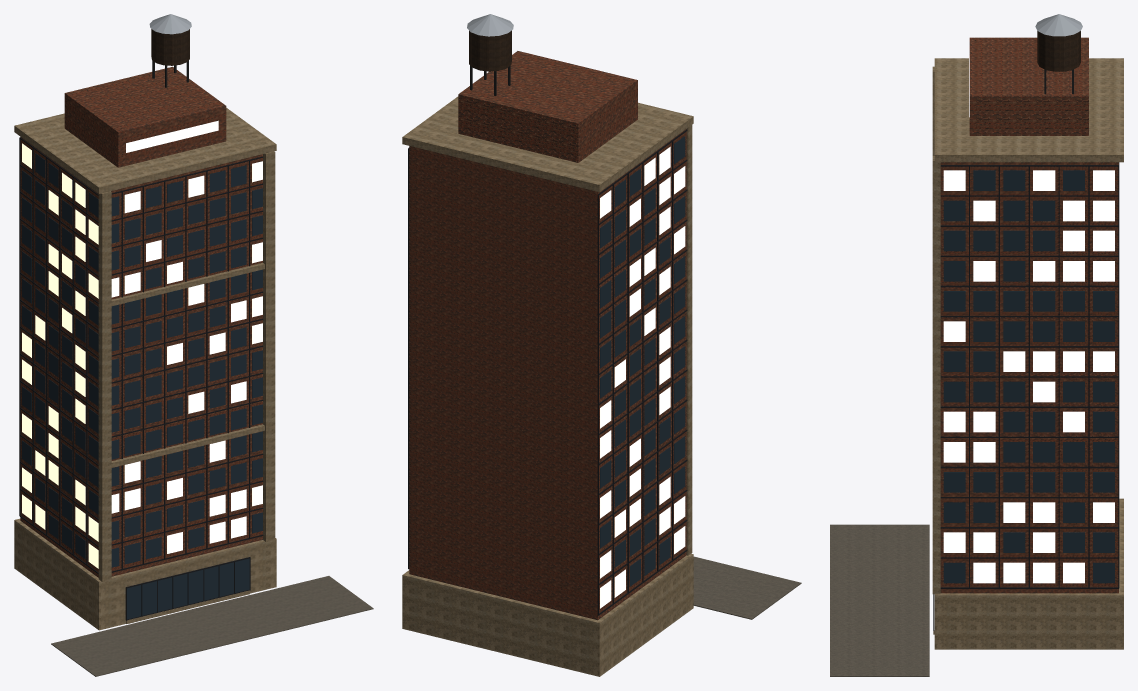
The model's file is OT_Skyscraper_Brick.glb.
The picture shows the model from 3 angles, left to right: view 1: azimuth 30°, elevation 25°; view 2: azimuth 150°, elevation 25°; view 3: azimuth 270°, elevation 25°; orthographic projection. The views are drawn at different scales.
Parts seen in each view (by area): view 1: OT_Skyscraper_Brick_Brick, OT_Skyscraper_Brick_Glass__22303a, OT_Skyscraper_Brick_Stone, OT_Skyscraper_Brick_Frame__18191c, OT_Skyscraper_Brick_InteriorWarm__ffdca8, OT_Skyscraper_Brick_Pavement, OT_Skyscraper_Brick_Wood, OT_Skyscraper_Brick_SignWhiteGlow__f4f8ff, OT_Skyscraper_Brick_SteelGrey__9aa0a6; view 2: OT_Skyscraper_Brick_Brick, OT_Skyscraper_Brick_Stone, OT_Skyscraper_Brick_Glass__22303a, OT_Skyscraper_Brick_Frame__18191c, OT_Skyscraper_Brick_InteriorWarm__ffdca8, OT_Skyscraper_Brick_Pavement, OT_Skyscraper_Brick_Wood, OT_Skyscraper_Brick_SteelGrey__9aa0a6; view 3: OT_Skyscraper_Brick_Brick, OT_Skyscraper_Brick_Stone, OT_Skyscraper_Brick_Glass__22303a, OT_Skyscraper_Brick_InteriorWarm__ffdca8, OT_Skyscraper_Brick_Pavement, OT_Skyscraper_Brick_Frame__18191c, OT_Skyscraper_Brick_Wood, OT_Skyscraper_Brick_SteelGrey__9aa0a6.
Part boxes in pixels (bbox=[...]): OT_Skyscraper_Brick_Brick: bbox=[20, 66, 262, 577]; OT_Skyscraper_Brick_Glass__22303a: bbox=[22, 153, 262, 619]; OT_Skyscraper_Brick_Stone: bbox=[14, 108, 276, 630]; OT_Skyscraper_Brick_Frame__18191c: bbox=[19, 137, 263, 620]; OT_Skyscraper_Brick_InteriorWarm__ffdca8: bbox=[22, 143, 262, 568]; OT_Skyscraper_Brick_Pavement: bbox=[51, 576, 373, 676]; OT_Skyscraper_Brick_Wood: bbox=[151, 29, 189, 65]; OT_Skyscraper_Brick_SignWhiteGlow__f4f8ff: bbox=[126, 120, 218, 152]; OT_Skyscraper_Brick_SteelGrey__9aa0a6: bbox=[149, 14, 191, 34]; OT_Skyscraper_Brick_Brick: bbox=[409, 51, 686, 620]; OT_Skyscraper_Brick_Stone: bbox=[402, 96, 693, 676]; OT_Skyscraper_Brick_Glass__22303a: bbox=[600, 136, 685, 586]; OT_Skyscraper_Brick_Frame__18191c: bbox=[408, 129, 687, 615]; OT_Skyscraper_Brick_InteriorWarm__ffdca8: bbox=[600, 146, 685, 608]; OT_Skyscraper_Brick_Pavement: bbox=[693, 556, 801, 619]; OT_Skyscraper_Brick_Wood: bbox=[469, 30, 511, 71]; OT_Skyscraper_Brick_SteelGrey__9aa0a6: bbox=[467, 14, 513, 36]; OT_Skyscraper_Brick_Brick: bbox=[940, 37, 1118, 593]; OT_Skyscraper_Brick_Stone: bbox=[932, 58, 1123, 649]; OT_Skyscraper_Brick_Glass__22303a: bbox=[943, 170, 1114, 583]; OT_Skyscraper_Brick_InteriorWarm__ffdca8: bbox=[934, 170, 1114, 629]; OT_Skyscraper_Brick_Pavement: bbox=[830, 524, 929, 676]; OT_Skyscraper_Brick_Frame__18191c: bbox=[933, 162, 1119, 630]; OT_Skyscraper_Brick_Wood: bbox=[1037, 31, 1080, 71]; OT_Skyscraper_Brick_SteelGrey__9aa0a6: bbox=[1035, 14, 1082, 36].
Size of the model in its own units: 36 by 67.4 by 29.5.
10 materials, 4 textured.
